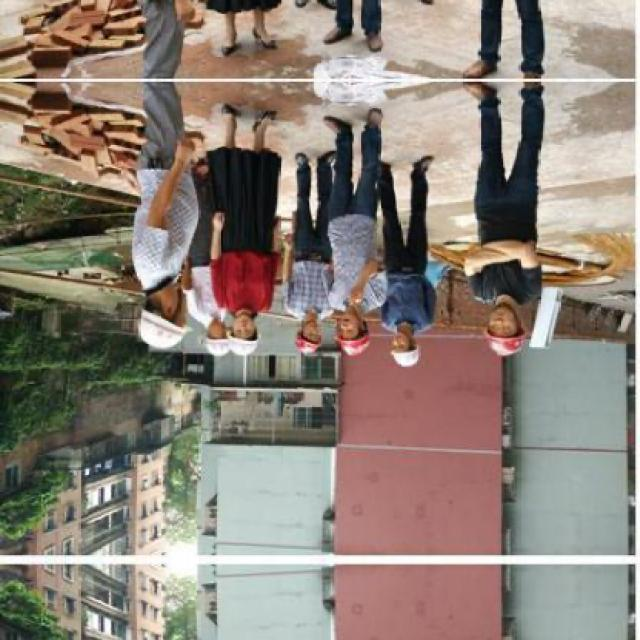con casco: (476, 256, 556, 353), (131, 256, 191, 360), (206, 302, 276, 371), (329, 275, 380, 362), (390, 308, 430, 387)
